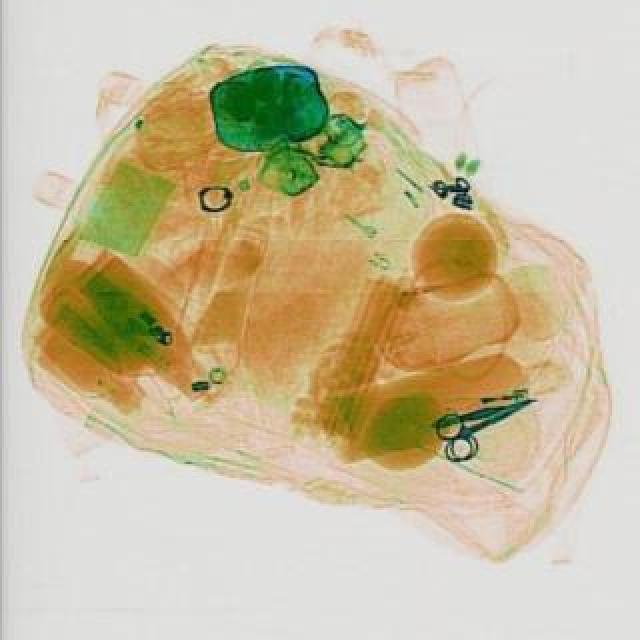pliers: (426, 382, 542, 472)
